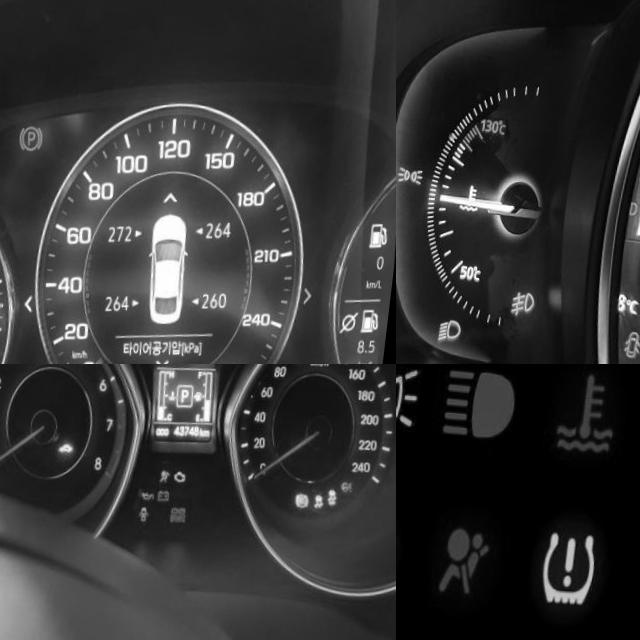Doors: (147, 500, 160, 517), (634, 321, 640, 350)
Engine cooling system: (559, 364, 624, 445)
FrontFogLight: (520, 284, 545, 313)
Low beam: (447, 312, 474, 338)
SideLamp: (396, 364, 425, 423), (404, 161, 431, 181)
